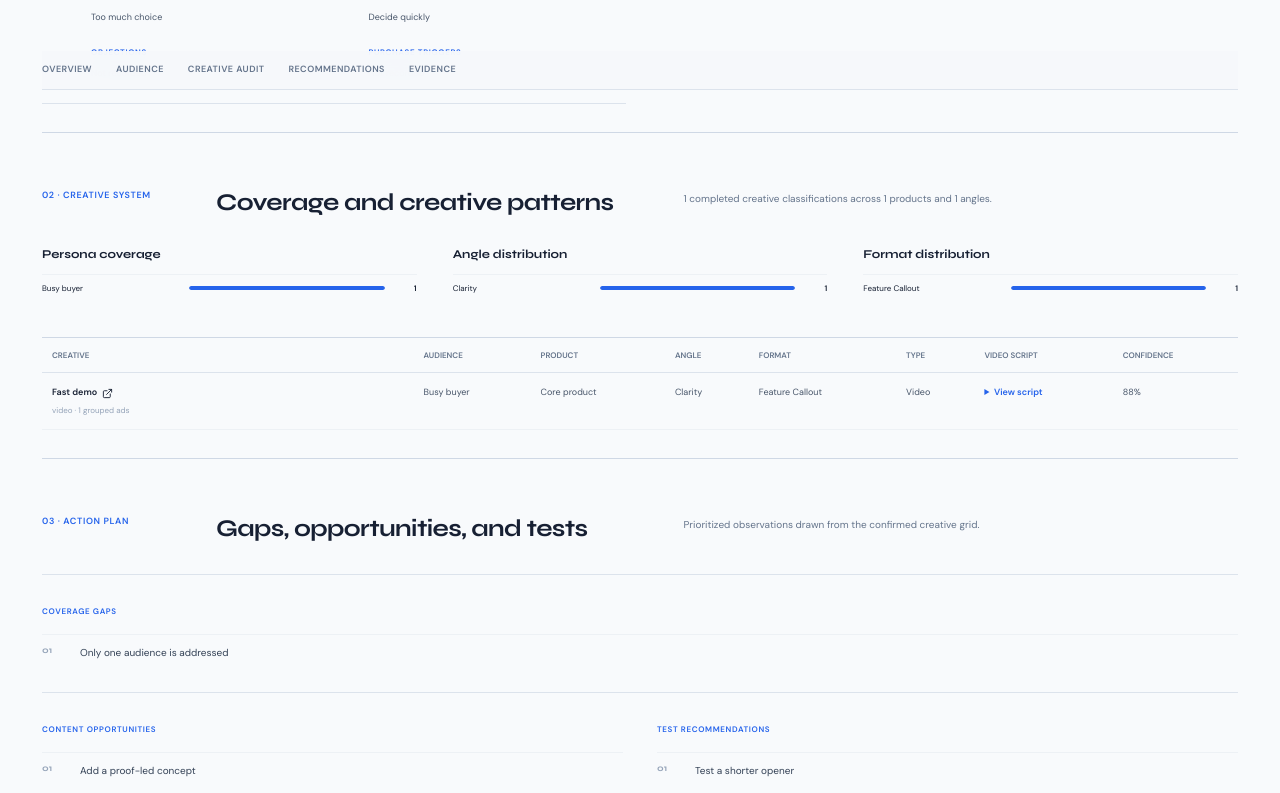
Ad Library final report › presents the complete audit as a decision-focused final report
(page scrolled)
Check: the column heading "Format" is shown, box [749,338,896,373]
Check: the column heading "Type" is shown, box [896,338,974,373]
What coordinates should you click on to do the following:
click the heading "View script"
I would click on:
 (1018, 392)
Its box is [994,386,1043,398].
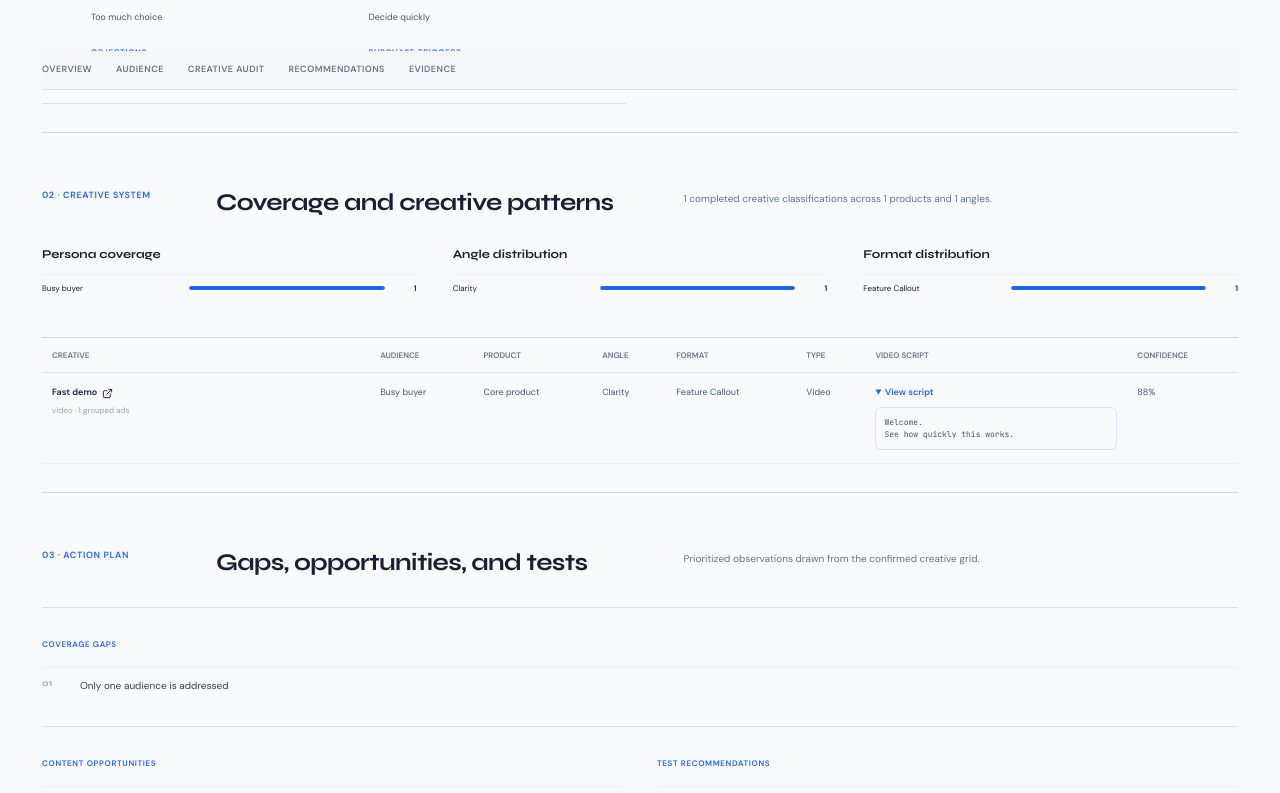
Check: the text "Welcome. See how quickly this works." is shown, box [875,407,1117,450]
